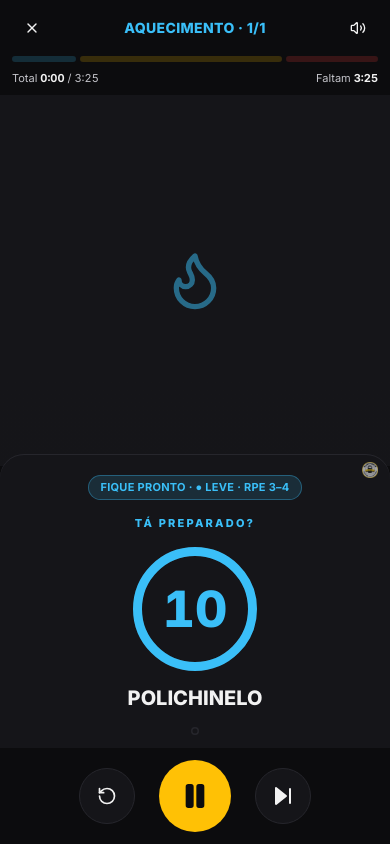
Test: Player do TABATA — tela nova › transição entre blocos: "BLOCO 1 CONCLUÍDO ✓", sobe para o bloco 2 e lista os exercícios
The image size is (390, 844).
Earlier steps of the test are not shown.
Step 1. Click the button named "Avançar" → x=283, y=796, box [255,768,311,824]
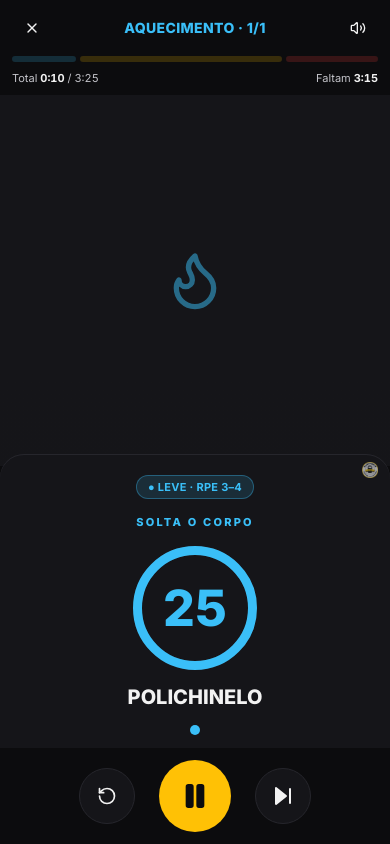
Step 2. Click the button named "Avançar" → x=283, y=796, box [255,768,311,824]
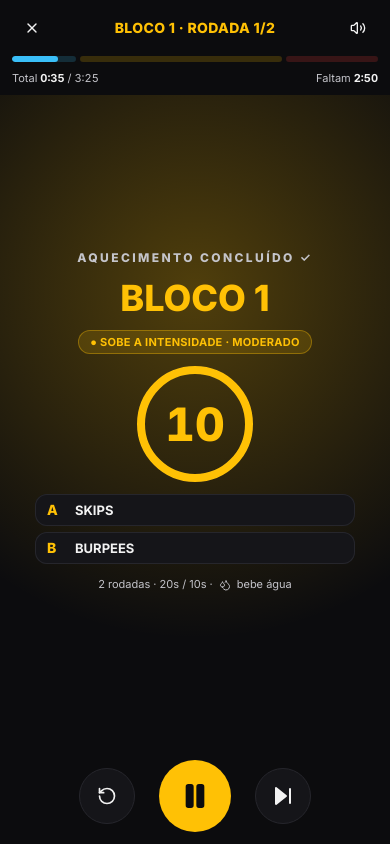
Step 3. Click the button named "Avançar" → x=283, y=796, box [255,768,311,824]
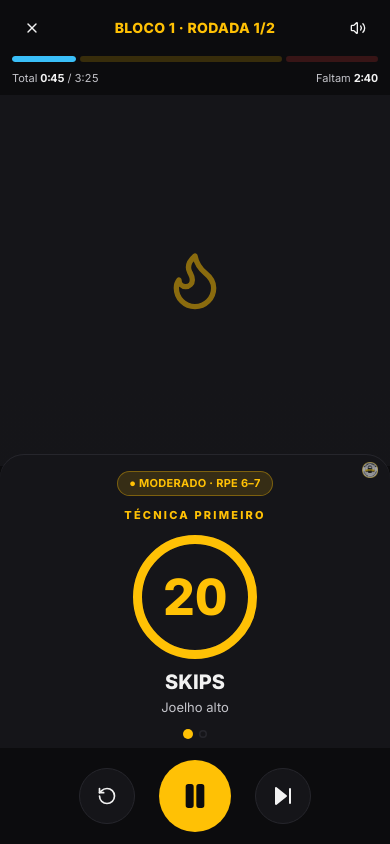
Step 4. Click the button named "Avançar" → x=283, y=796, box [255,768,311,824]
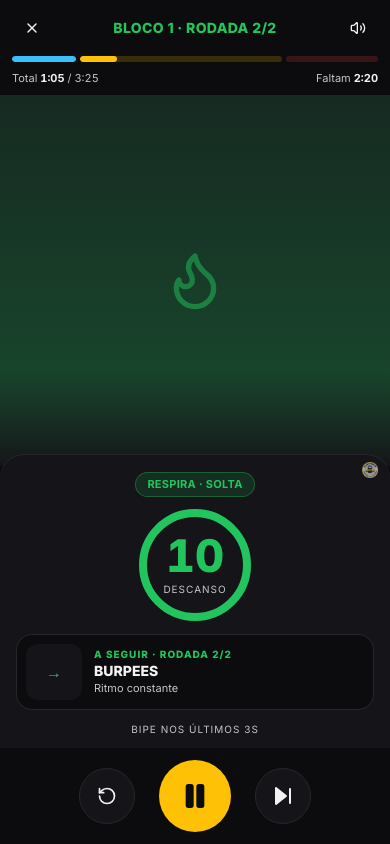
Step 5. Click the button named "Avançar" → x=283, y=796, box [255,768,311,824]
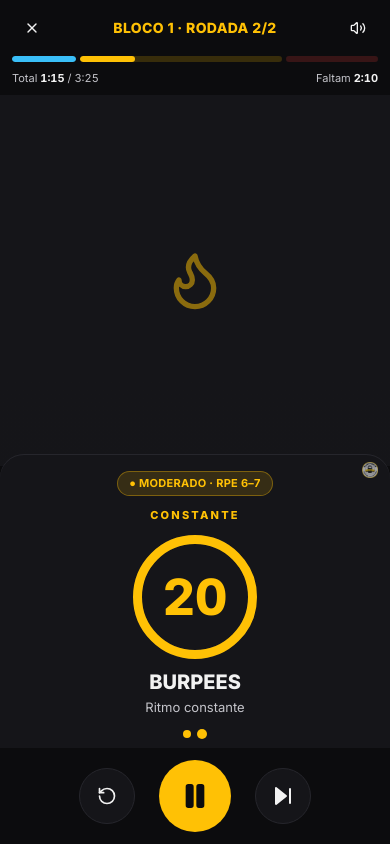
Step 6. Click the button named "Avançar" → x=283, y=796, box [255,768,311,824]
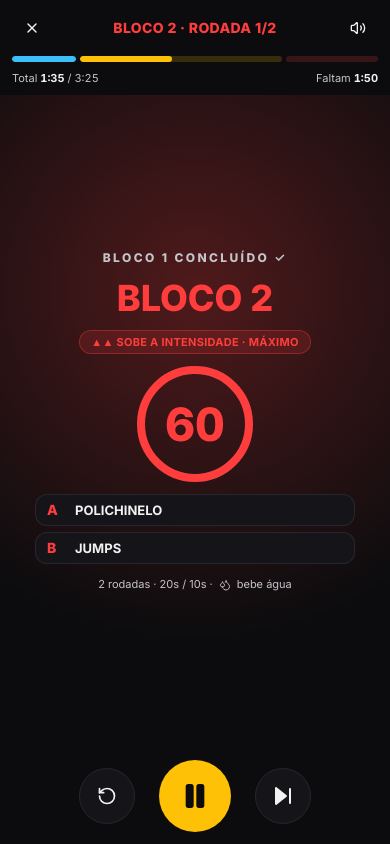
Check: the element with test id "tabata-block-transition" shows "Bloco 1 concluído ✓", box [103,250,287,265]
Check: the element with test id "tabata-block-transition" shows "BLOCO 2"
Check: the element with test id "tabata-block-transition" shows "Sobe a intensidade · Máximo", box [91,335,299,349]
